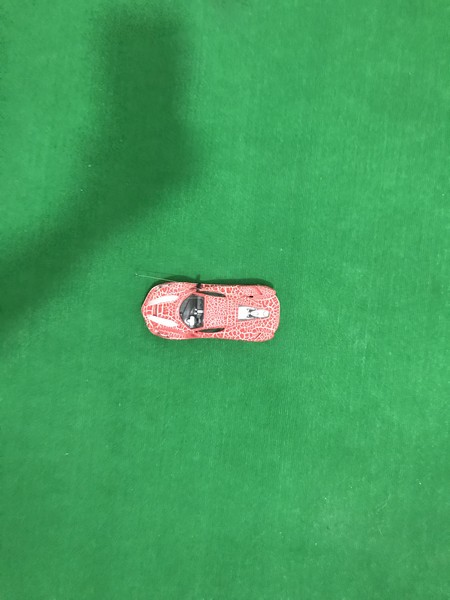RC: (138, 275, 284, 346)
